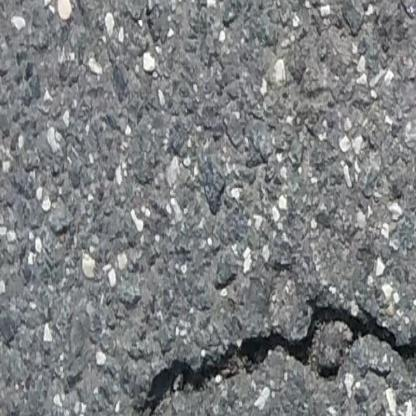Cracks: (131, 295, 416, 416)
